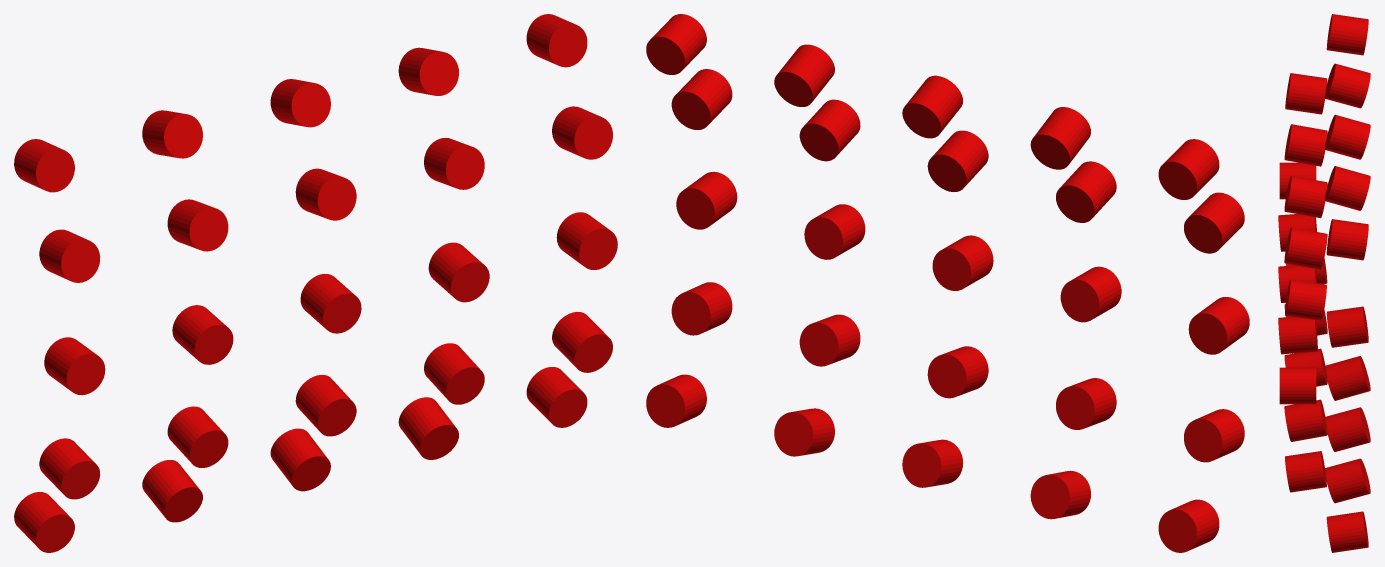
The picture shows the model from 3 angles, left to right: view 1: azimuth 30°, elevation 25°; view 2: azimuth 150°, elevation 25°; view 3: azimuth 270°, elevation 25°; orthographic projection. The views are drawn at different scales.
Bounding box in the file's own units: 0.0142 × 0.01 × 0.00252.
